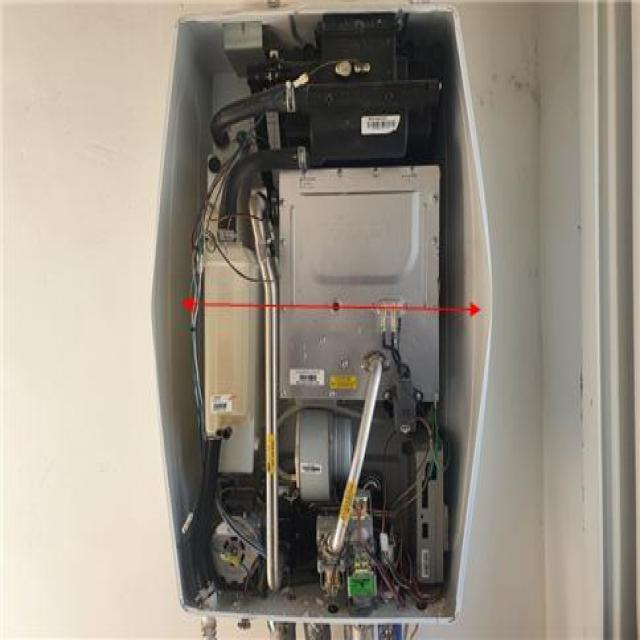Boiler: (151, 3, 500, 640)
